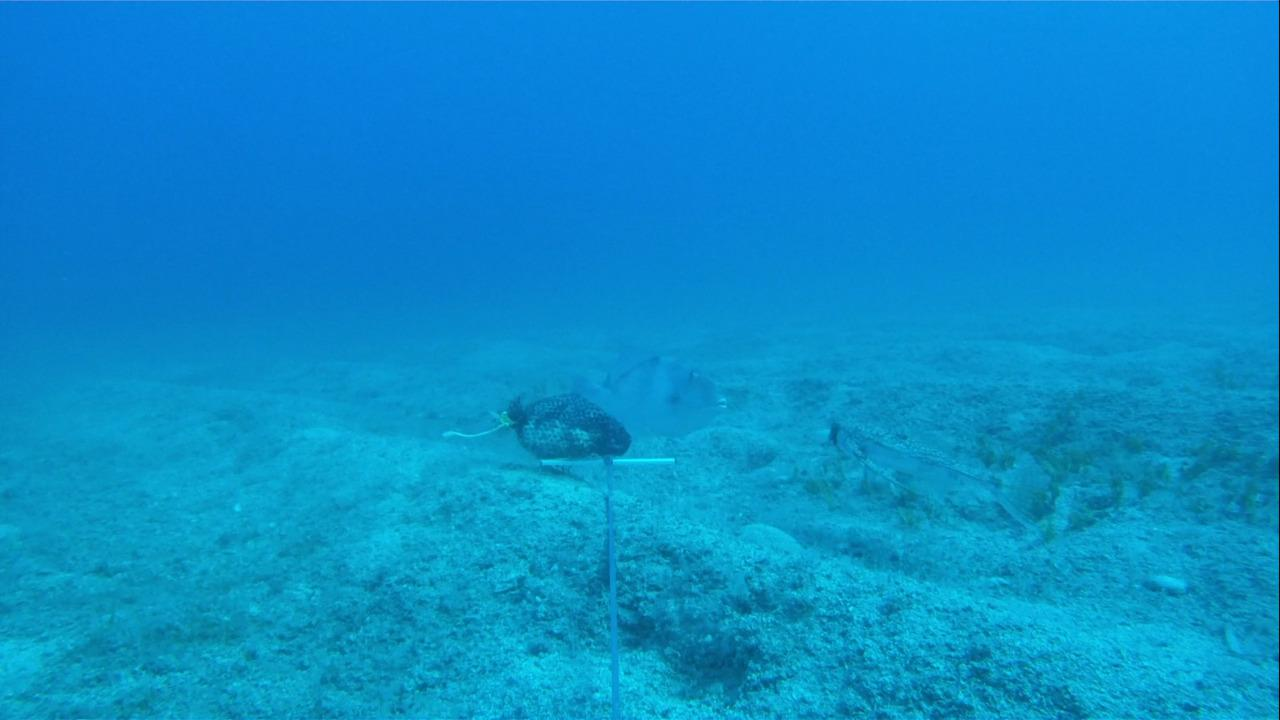balistes: (565, 348, 730, 446)
dactylopterus: (821, 412, 1045, 542)
